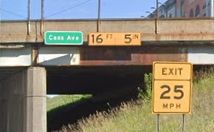1: (89, 33, 96, 44)
5: (121, 32, 133, 45)
6: (95, 33, 105, 45)
overheadsign: (87, 31, 142, 48)
